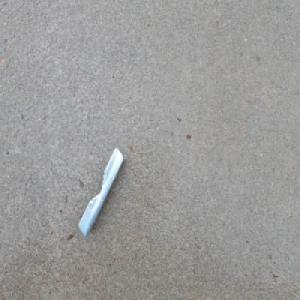ClampPart: (77, 146, 124, 239)
